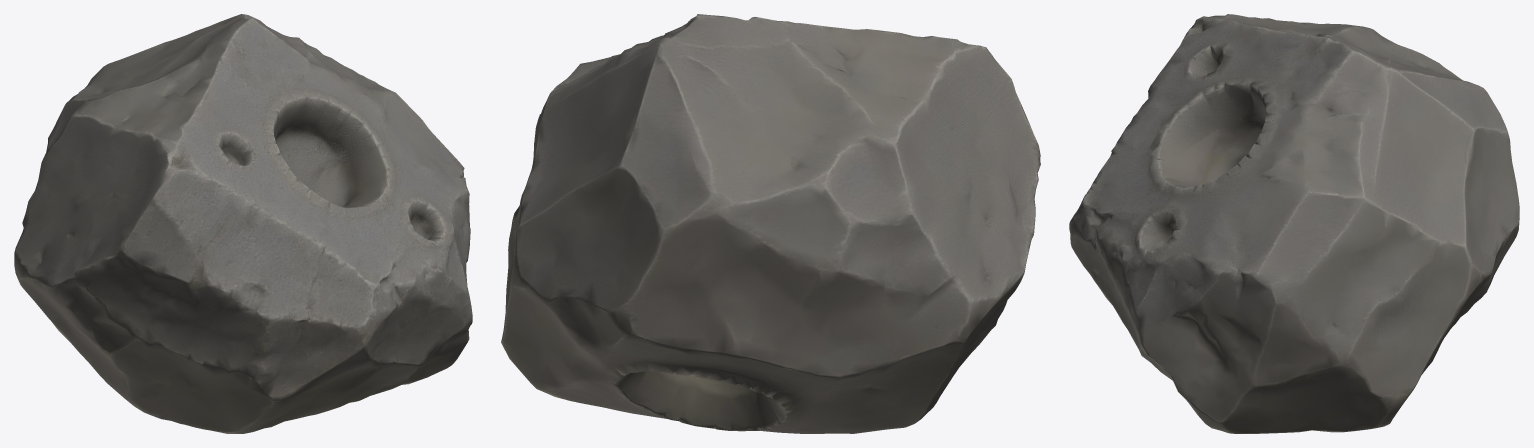
The model's file is runtime_small_01.glb.
3 renders of one model, left to right at view 1: azimuth 30°, elevation 25°; view 2: azimuth 150°, elevation 25°; view 3: azimuth 270°, elevation 25°, orthographic. The views are drawn at different scales.
Visible parts, largest first — view 1: tripo_node_b9c7de95-2726-4880-93fa-609d0045a311; view 2: tripo_node_b9c7de95-2726-4880-93fa-609d0045a311; view 3: tripo_node_b9c7de95-2726-4880-93fa-609d0045a311.
Boxes of the visible parts, x1,y1,x2,y2 form: tripo_node_b9c7de95-2726-4880-93fa-609d0045a311: [14, 14, 472, 433]; tripo_node_b9c7de95-2726-4880-93fa-609d0045a311: [501, 14, 1040, 433]; tripo_node_b9c7de95-2726-4880-93fa-609d0045a311: [1069, 14, 1519, 433].
Bounding box in the file's own units: 0.98 × 0.7754 × 0.968.
Materials: 1 (1 with a texture image).
